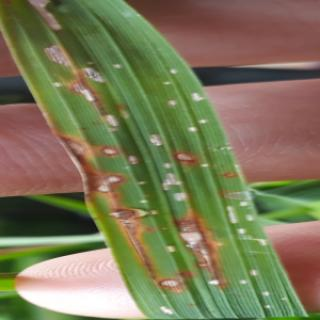Blast: (54, 32, 150, 125), (174, 207, 237, 286)
